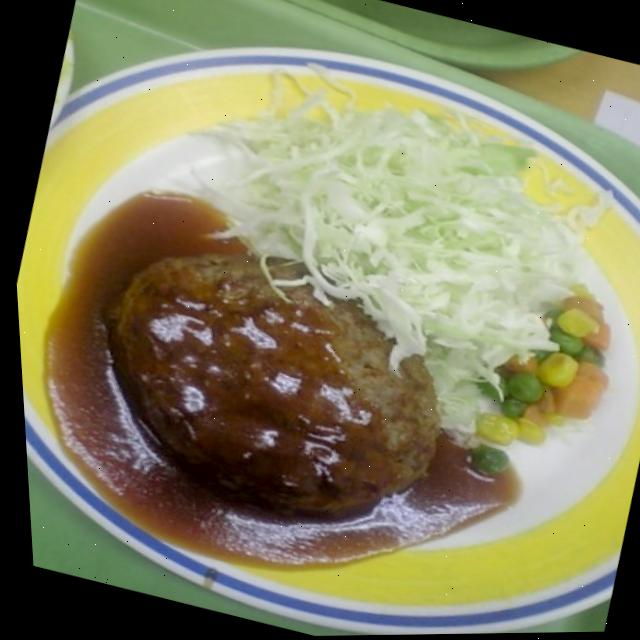蔬菜料理: (167, 41, 632, 451)
